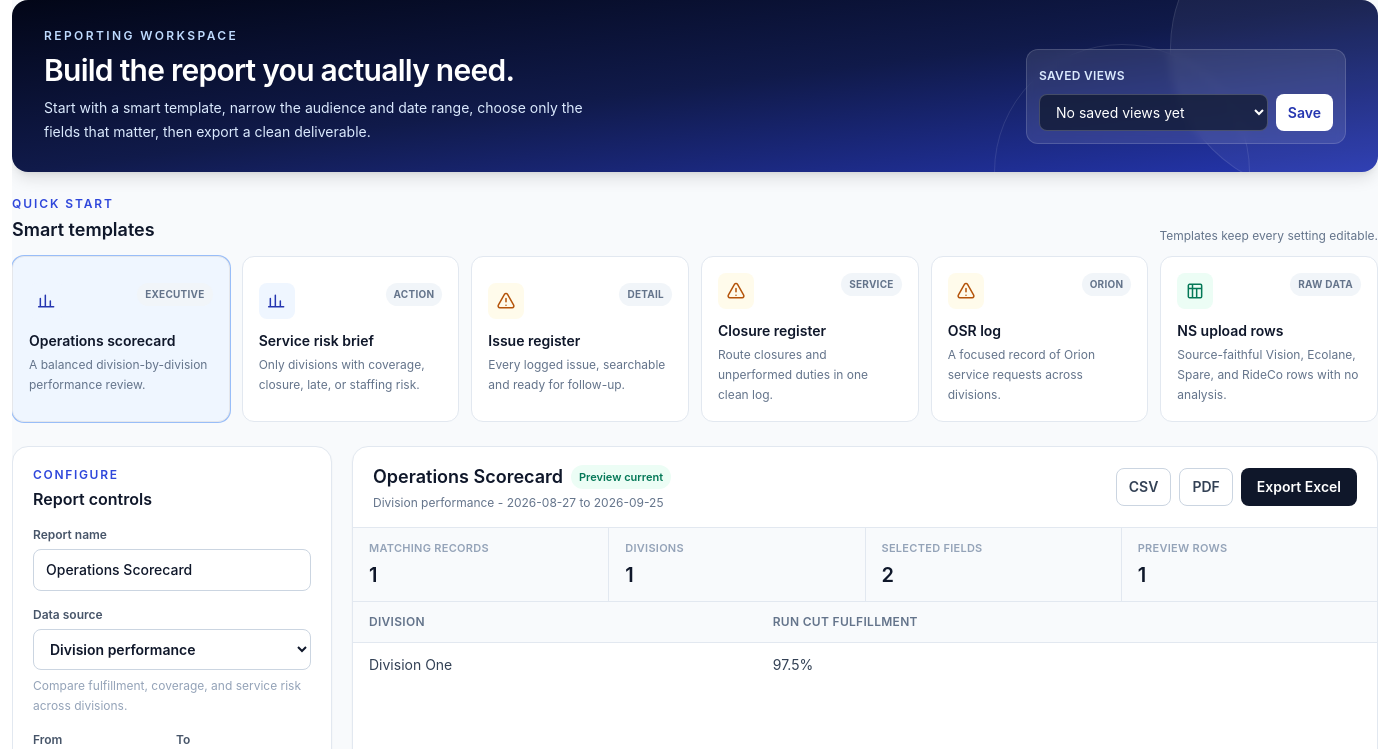
Scenario: starts with a useful scorecard preview and can apply the closure template
Expected: the text "Division One" is shown, [353,642,757,686]
Expected: the text "97.5%" is shown, [757,642,1377,686]
Click the button "Closure register": [810, 339] box [701,256,919,422]
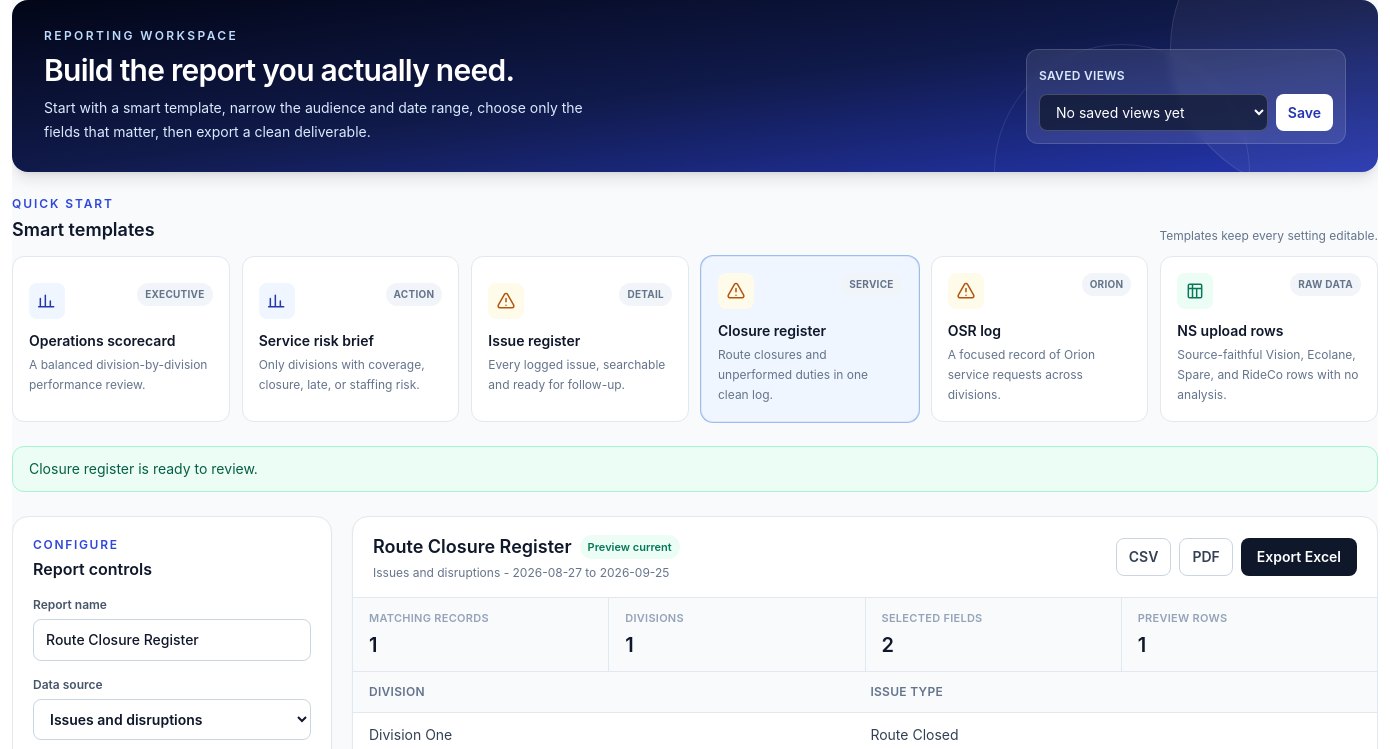
Now the heading "Route Closure Register" is shown, box [373,533,572,561]
